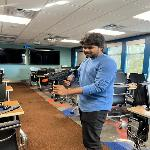Senapan: (30, 62, 88, 100)
